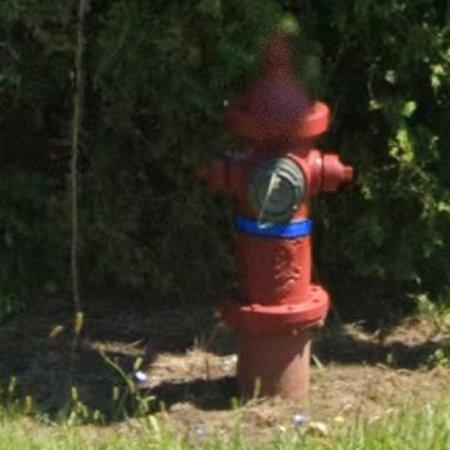a fire hydrant: (206, 35, 356, 397)
